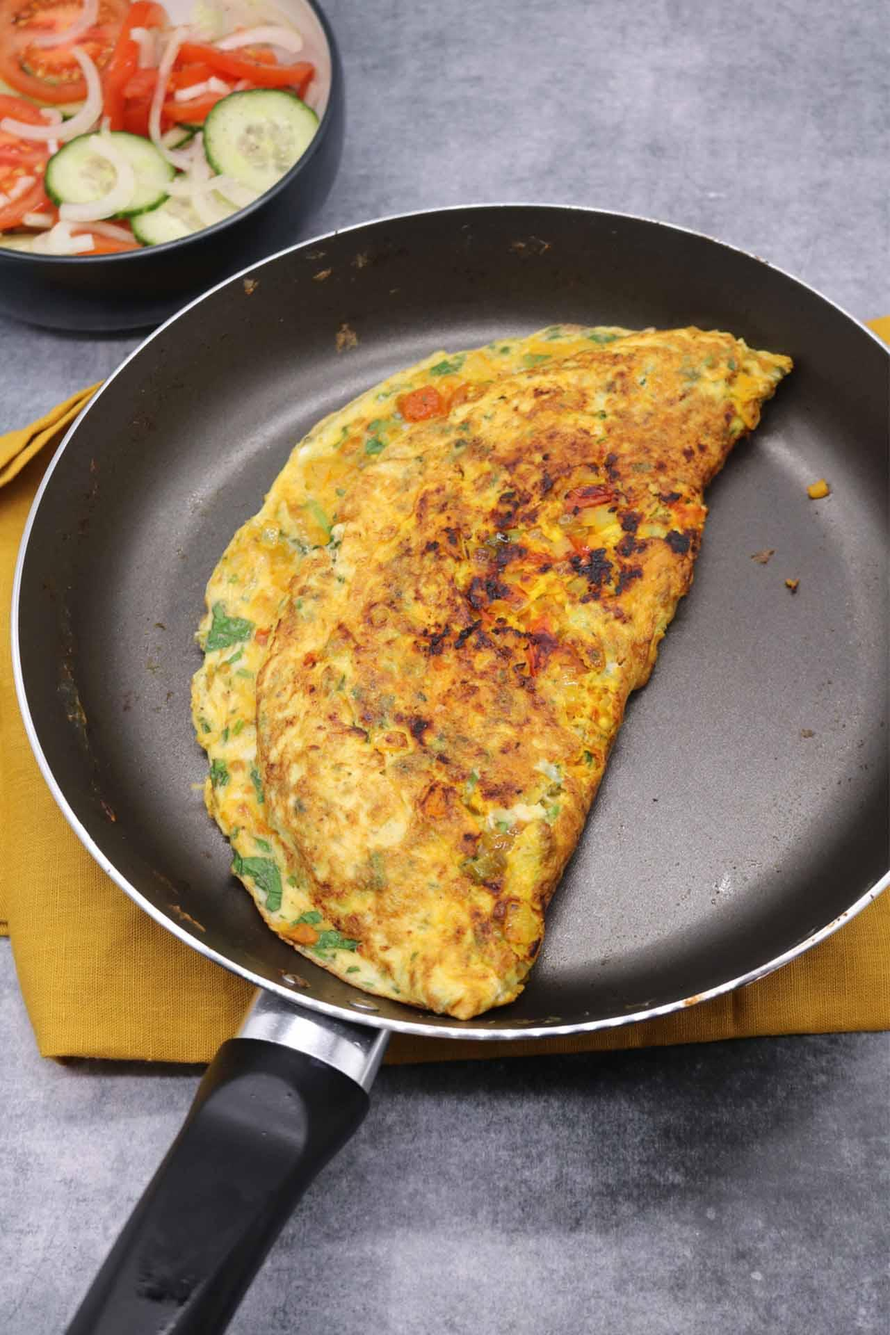omelette: (231, 366, 819, 995)
salad: (0, 0, 307, 248)
